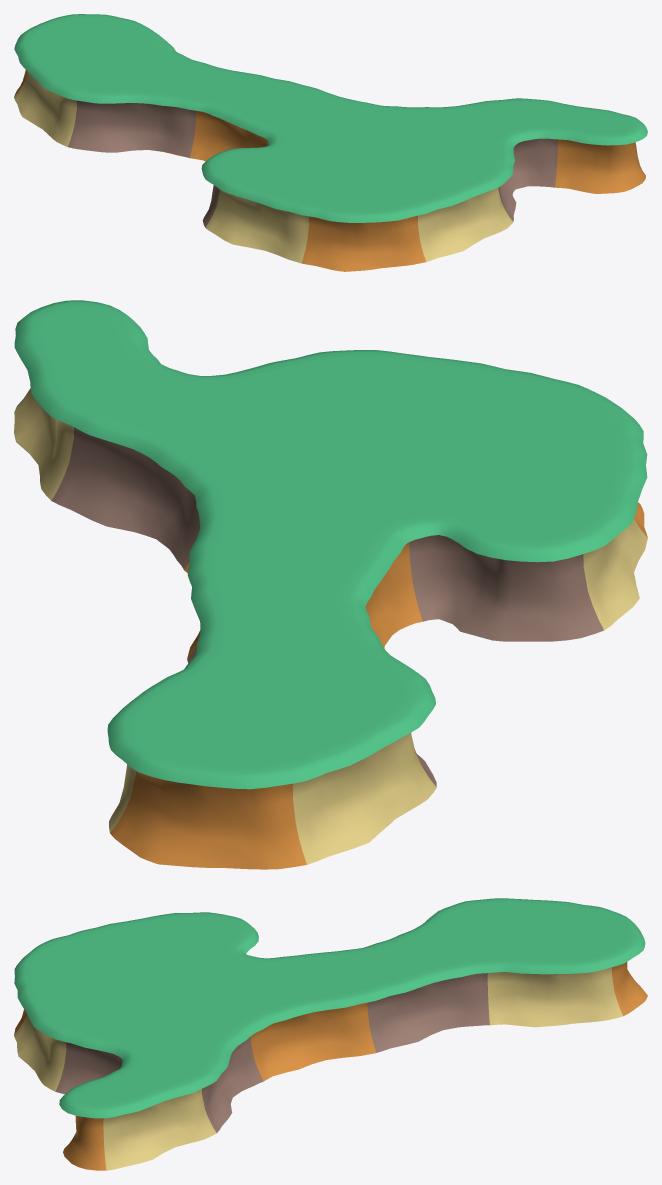
Rendered from Mod_A5_Lm2.fbx.
3 renders of one model, top to bottom at view 1: azimuth 30°, elevation 25°; view 2: azimuth 150°, elevation 25°; view 3: azimuth 270°, elevation 25°, orthographic. The views are drawn at different scales.
Visible parts, largest first — view 1: Mod_A5_Lm2; view 2: Mod_A5_Lm2; view 3: Mod_A5_Lm2.
Part boxes in pixels (box(x1,y1,x2,y2)): Mod_A5_Lm2: box(14, 14, 647, 271); Mod_A5_Lm2: box(14, 300, 647, 869); Mod_A5_Lm2: box(14, 898, 647, 1170).
Size of the model in its own units: 3594 by 442 by 4413.
